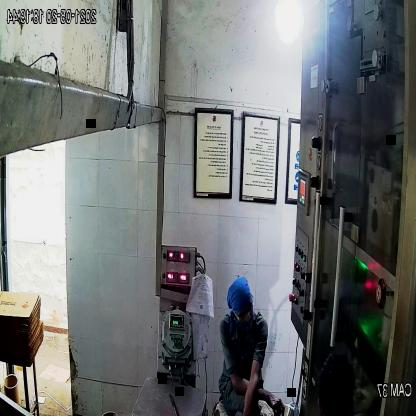goggles: (231, 301, 257, 324)
